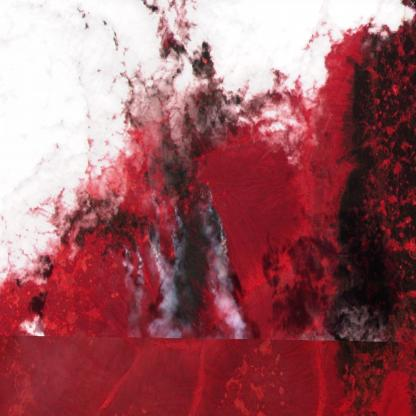fire: (113, 184, 235, 298)
